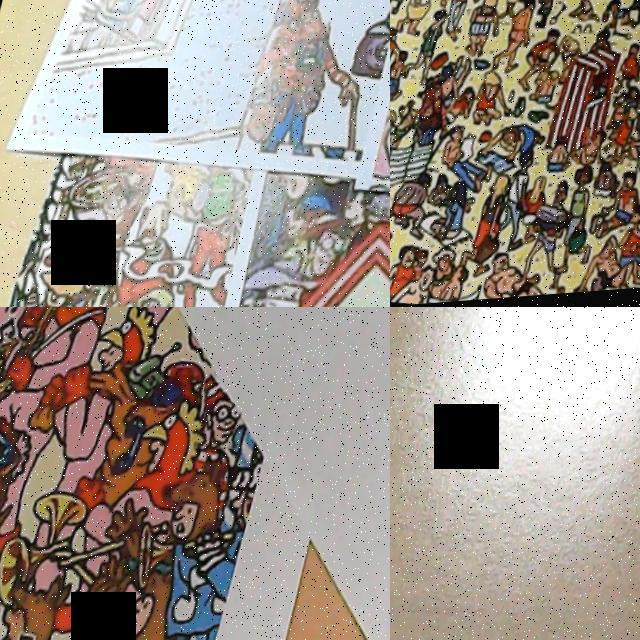waldo: (296, 211, 365, 294), (196, 374, 261, 461), (97, 174, 152, 247), (281, 0, 343, 50), (436, 81, 460, 113)
